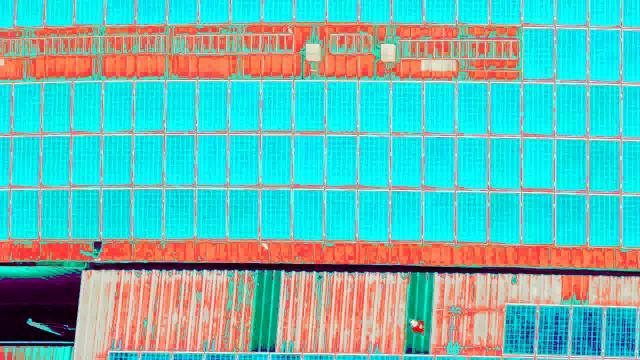dirty: (520, 26, 556, 83), (552, 25, 588, 82), (585, 27, 621, 84), (586, 80, 622, 137), (553, 81, 589, 138), (518, 80, 554, 137), (486, 81, 522, 138), (451, 80, 487, 137), (421, 79, 457, 136), (386, 80, 422, 137), (354, 82, 390, 139), (324, 77, 360, 134), (290, 80, 326, 137), (257, 76, 293, 133), (222, 78, 258, 135), (192, 81, 228, 138), (159, 81, 195, 138), (131, 78, 167, 135), (98, 80, 134, 137), (43, 83, 79, 140), (33, 78, 69, 135), (68, 79, 104, 136), (4, 135, 40, 192), (36, 132, 72, 189), (68, 131, 104, 188), (97, 133, 133, 190), (95, 131, 131, 188), (128, 133, 164, 190), (162, 131, 198, 188), (191, 133, 227, 190), (225, 132, 261, 189), (258, 132, 294, 189), (292, 133, 328, 190), (323, 135, 359, 192), (355, 133, 391, 190), (389, 135, 425, 192), (423, 135, 459, 192), (453, 133, 489, 190), (484, 133, 520, 190), (519, 136, 555, 193), (552, 137, 588, 194), (586, 138, 622, 195), (588, 191, 624, 248), (552, 192, 588, 249), (519, 191, 555, 248), (484, 187, 520, 244), (453, 188, 489, 245), (421, 190, 457, 247), (386, 187, 422, 244), (352, 186, 388, 243), (323, 187, 359, 244), (288, 187, 324, 244), (257, 185, 293, 242), (225, 185, 261, 242), (191, 187, 227, 244), (157, 186, 193, 243), (129, 187, 165, 244), (100, 185, 136, 242), (63, 187, 99, 244), (36, 186, 72, 243), (3, 187, 39, 244), (1, 78, 36, 135)
semi: (502, 303, 540, 356), (531, 301, 569, 354), (567, 302, 605, 355), (602, 305, 640, 358)
